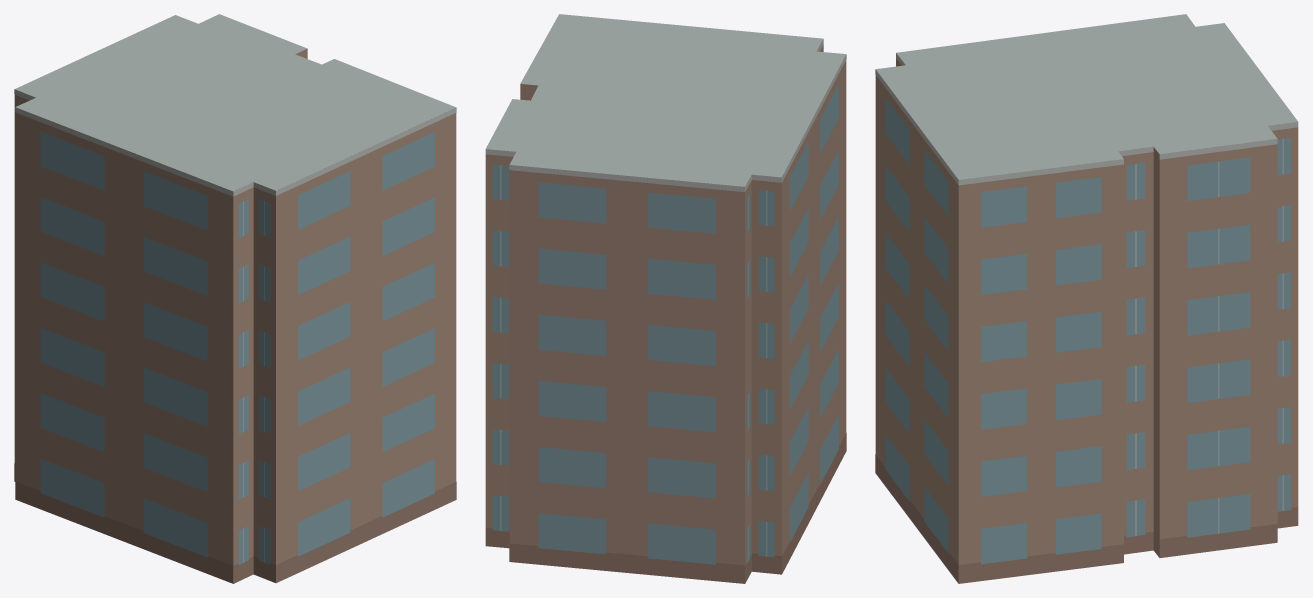
File: survey-upis-32634498.glb
The picture shows the model from 3 angles, left to right: view 1: azimuth 30°, elevation 25°; view 2: azimuth 150°, elevation 25°; view 3: azimuth 270°, elevation 25°; orthographic projection. The views are drawn at different scales.
Visible parts, largest first — view 1: survey-upis-32634498.tmp; view 2: survey-upis-32634498.tmp; view 3: survey-upis-32634498.tmp.
Boxes of the visible parts, bbox=[...] form: survey-upis-32634498.tmp: bbox=[14, 14, 456, 583]; survey-upis-32634498.tmp: bbox=[485, 14, 846, 583]; survey-upis-32634498.tmp: bbox=[875, 14, 1298, 583].
Size of the model in its own units: 16.15 by 18.3 by 17.38.
